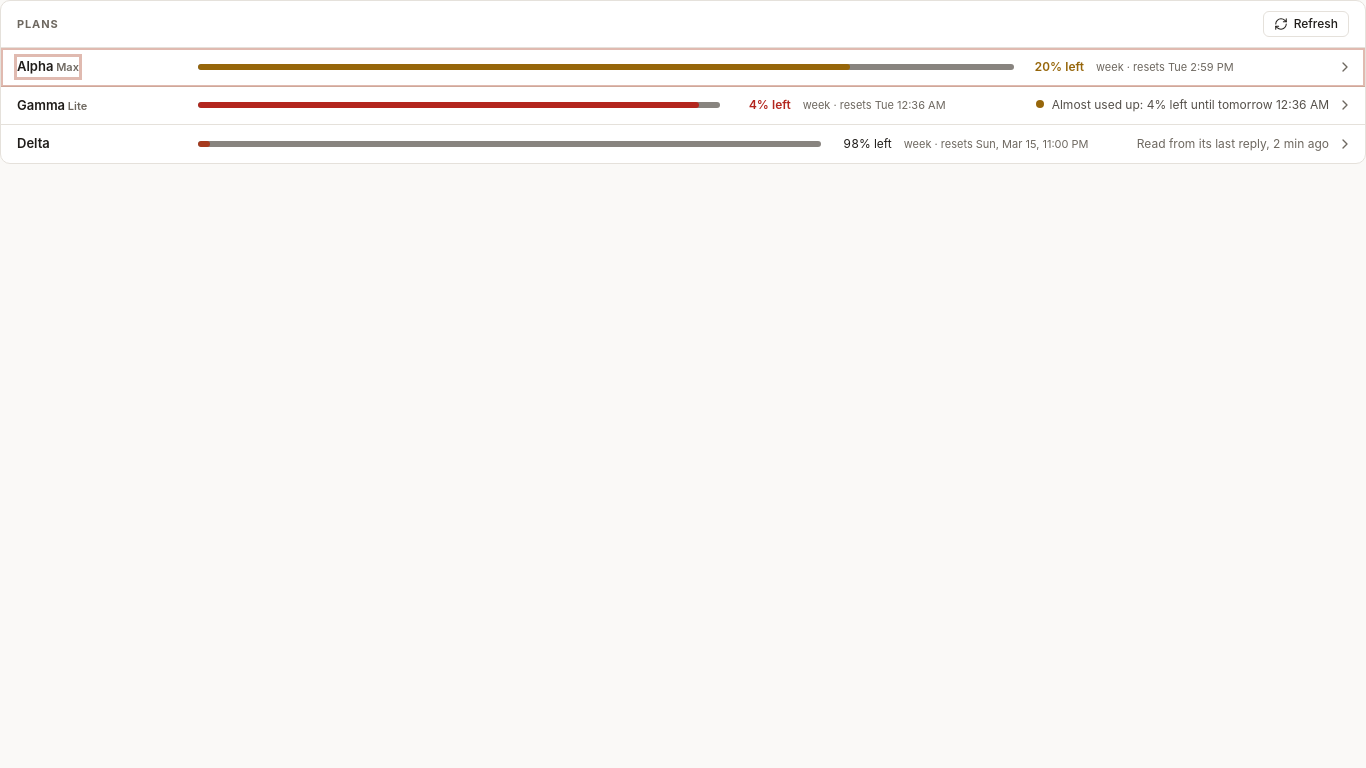
Plans rows open the Plan detail › is a button per row, and the sheet shows usage, activity and how Khipu knows
Expected: the button with aria-label "Gamma Lite: 4% of its week left" is shown, [17,96,87,115]
Click the button "Alpha Max" at (48, 67), box [17,57,79,76]
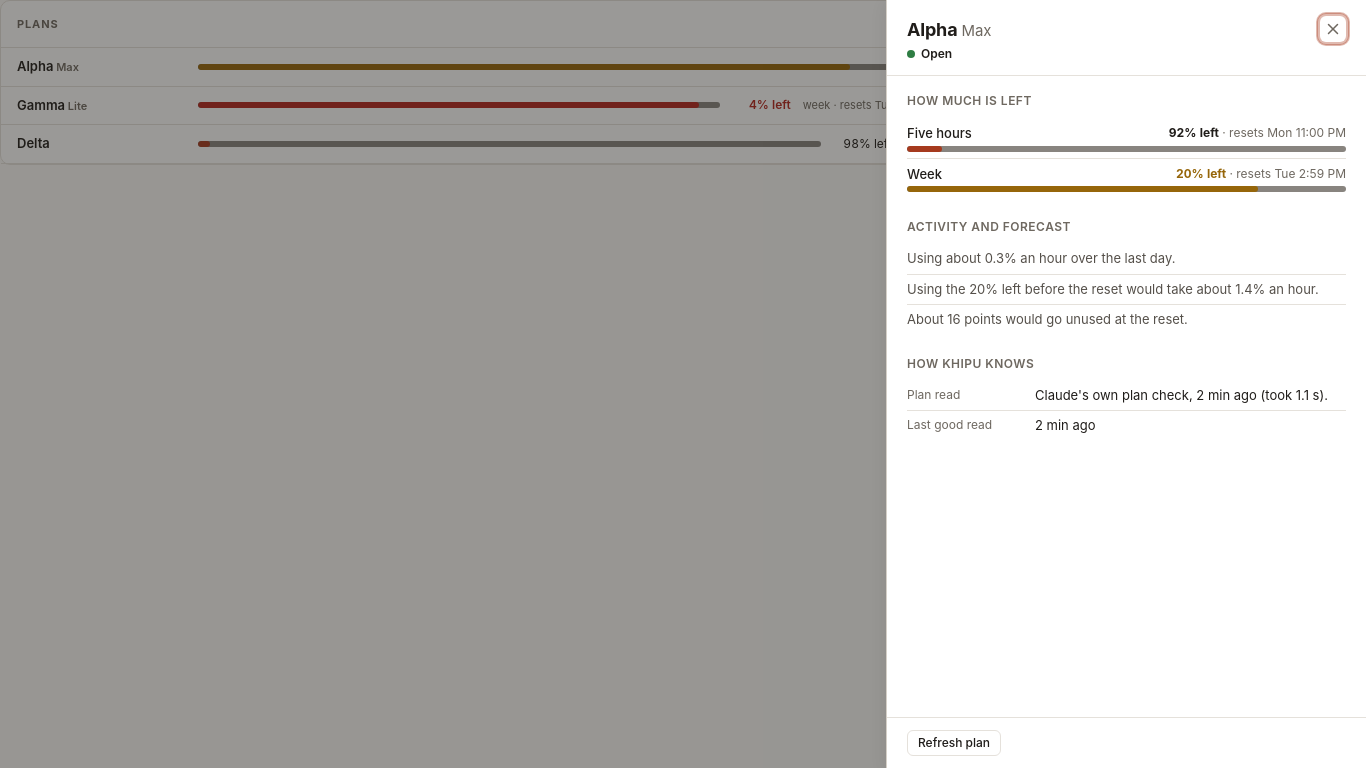
Expected: the element that starts with "How much is left" is shown, [907,92,1346,440]
Expected: the heading "Alpha Max" is shown, [907,19,991,40]
Expected: the heading "How much is left" is shown, [907,93,1032,108]
